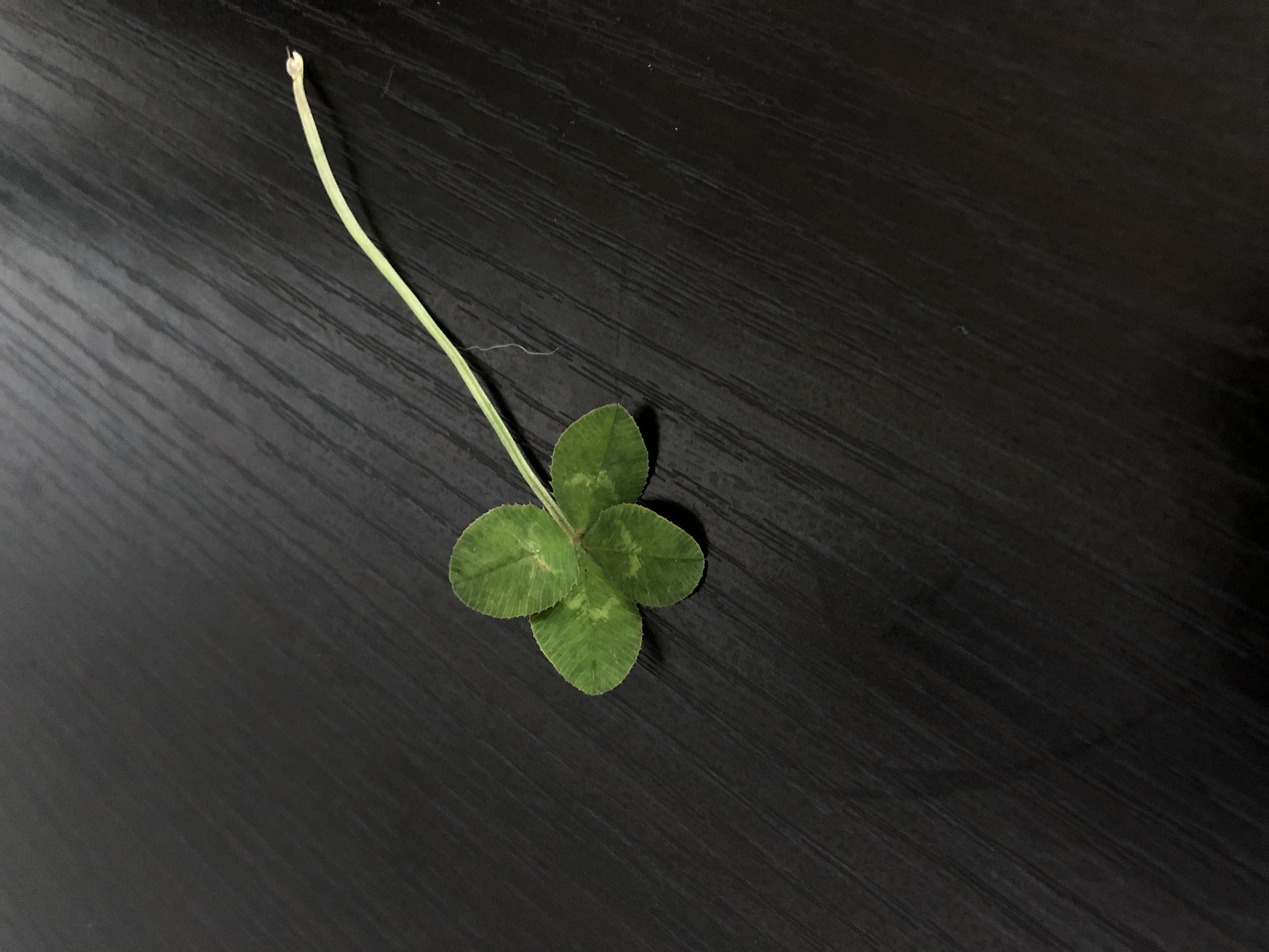4-Leaf-Clovers: (347, 335, 728, 536)
